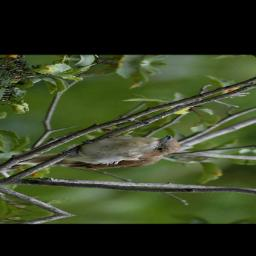Cuckoo: (14, 128, 186, 175)
